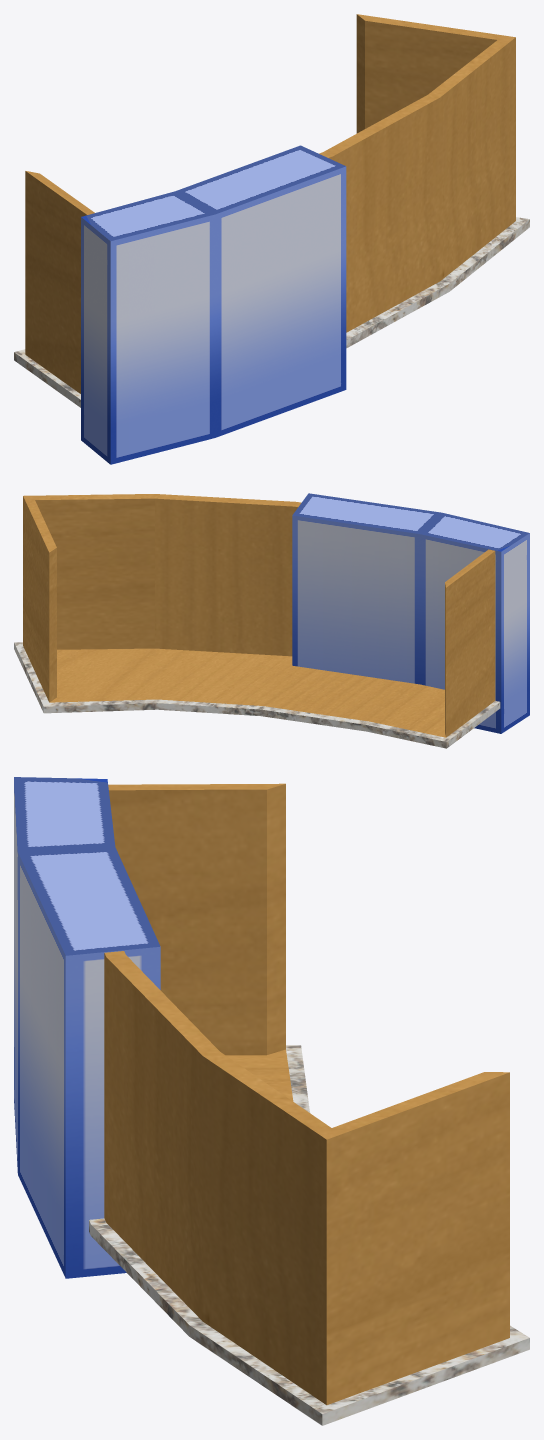
Rendered from CFCDesk.fbx.
3 renders of one model, top to bottom at view 1: azimuth 30°, elevation 25°; view 2: azimuth 150°, elevation 25°; view 3: azimuth 270°, elevation 25°, orthographic. The views are drawn at different scales.
Parts seen in each view (by area): view 1: BlueGlowyThing, Desk; view 2: Desk, BlueGlowyThing; view 3: Desk, BlueGlowyThing.
Part boxes in pixels (bbox=[...]): BlueGlowyThing: bbox=[81, 145, 346, 464]; Desk: bbox=[14, 14, 529, 407]; Desk: bbox=[14, 494, 500, 748]; BlueGlowyThing: bbox=[292, 493, 529, 733]; Desk: bbox=[89, 783, 529, 1425]; BlueGlowyThing: bbox=[14, 777, 160, 1278].
Bounding box in the file's own units: 1.82 × 0.7399 × 1.07.
3 materials, 3 textured.
